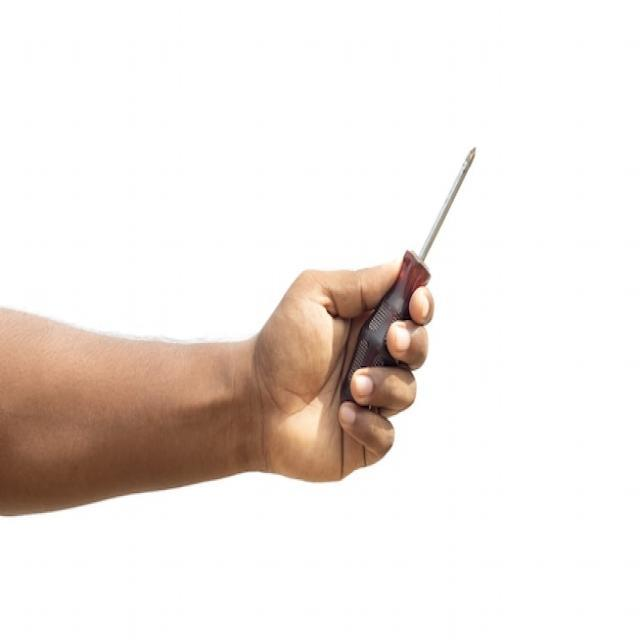screwdriver: (338, 143, 484, 424)
